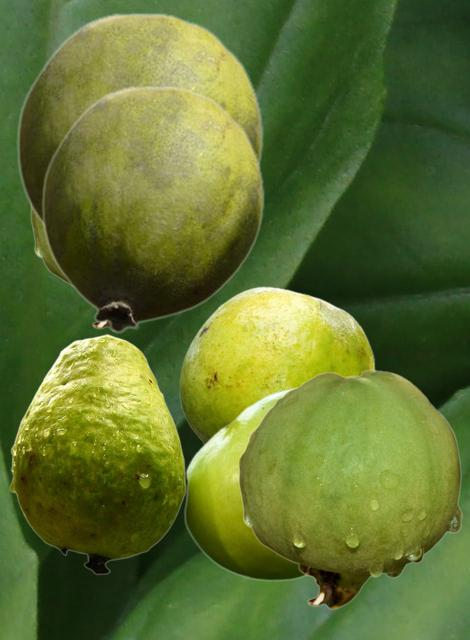guava: (41, 85, 264, 332), (238, 369, 461, 608), (16, 12, 263, 224), (9, 334, 185, 574), (179, 286, 374, 443), (183, 386, 305, 580), (30, 208, 109, 329)
